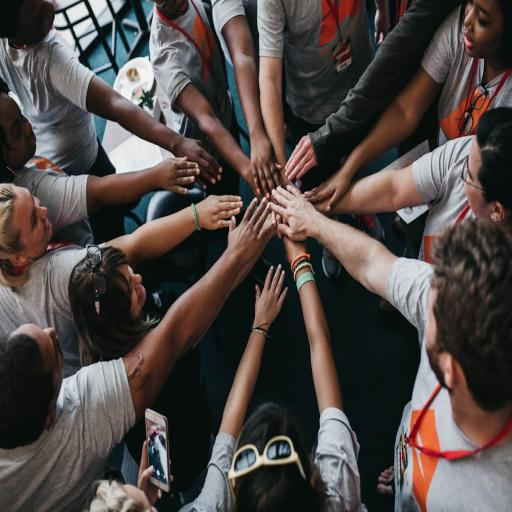face: (11, 187, 52, 266), (0, 94, 36, 169), (463, 0, 503, 59), (124, 266, 146, 319)
